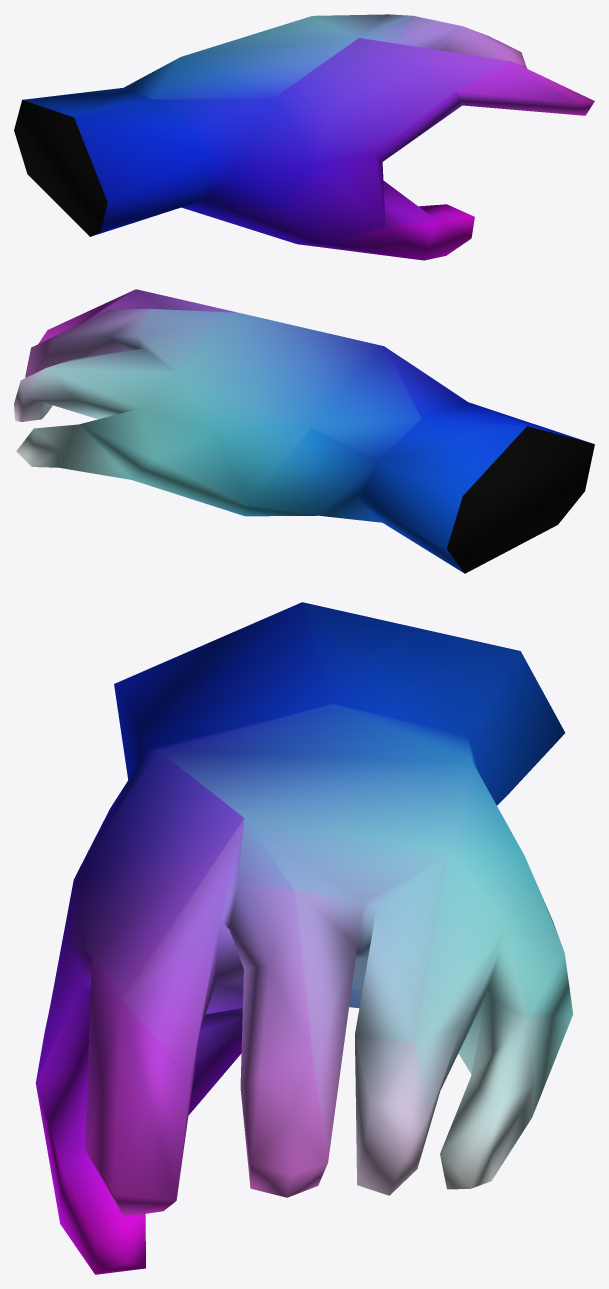
Rendered from LeftHand_LowPoly.fbx.
3 renders of one model, top to bottom at view 1: azimuth 30°, elevation 25°; view 2: azimuth 150°, elevation 25°; view 3: azimuth 270°, elevation 25°, orthographic. The views are drawn at different scales.
Visible parts, largest first — view 1: leftHand_LowPoly; view 2: leftHand_LowPoly; view 3: leftHand_LowPoly.
Part boxes in pixels (x1,y1,x2,y2): leftHand_LowPoly: [14, 14, 594, 260]; leftHand_LowPoly: [14, 289, 594, 573]; leftHand_LowPoly: [35, 602, 573, 1274].
Bounding box in the file's own units: 0.3472 × 0.1384 × 0.166.
